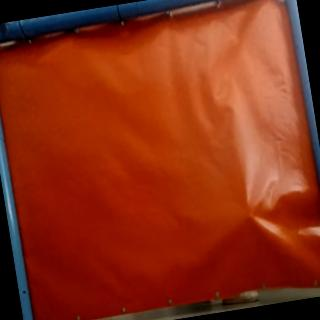Hit-hRxx: (242, 205, 260, 228)
